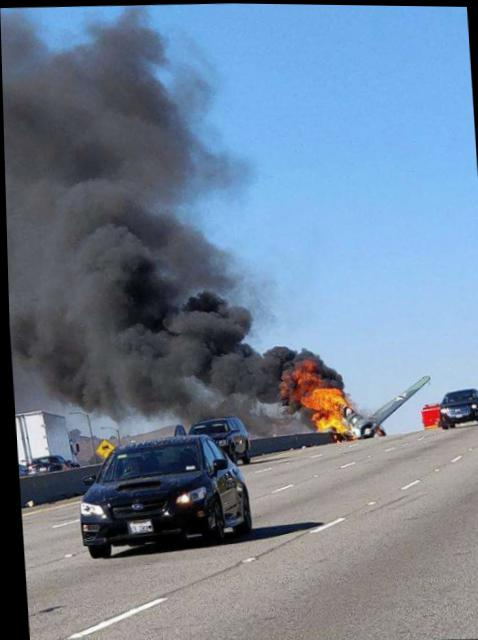fire: (271, 356, 362, 447)
